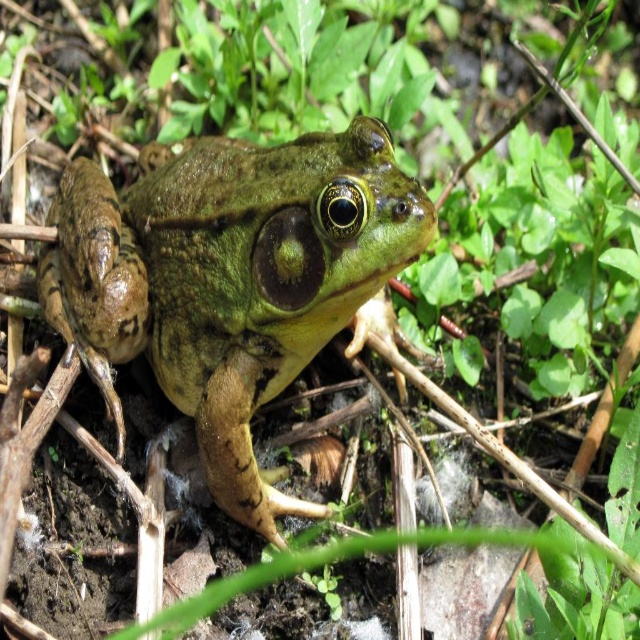Frog: (36, 115, 438, 553)
